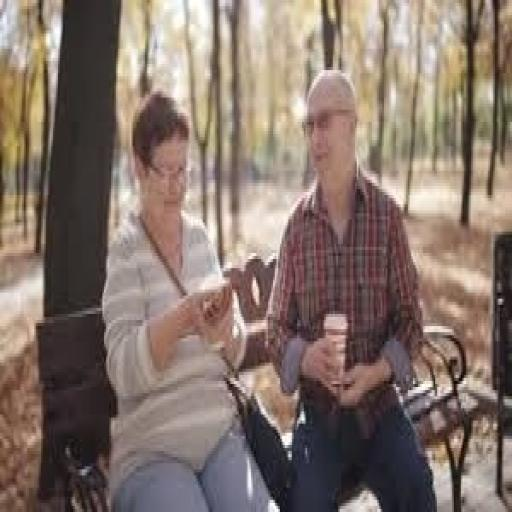sitting: (100, 64, 438, 506)
